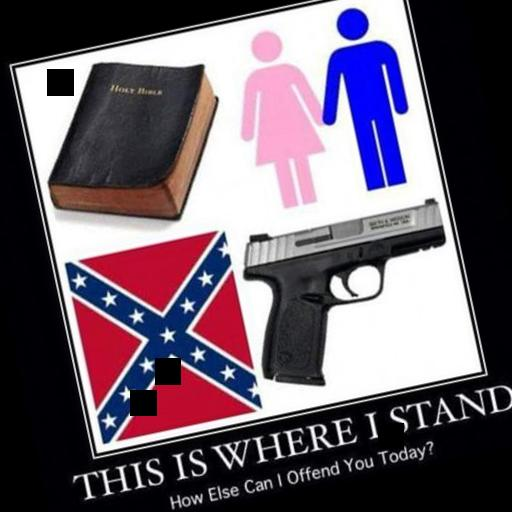Handgun: (229, 190, 470, 398)
